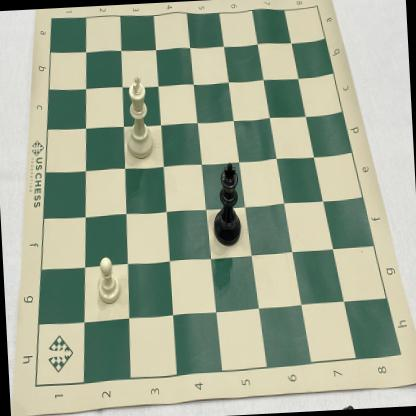king: (207, 157, 246, 249), (121, 74, 155, 162)
pawn: (93, 253, 122, 307)
